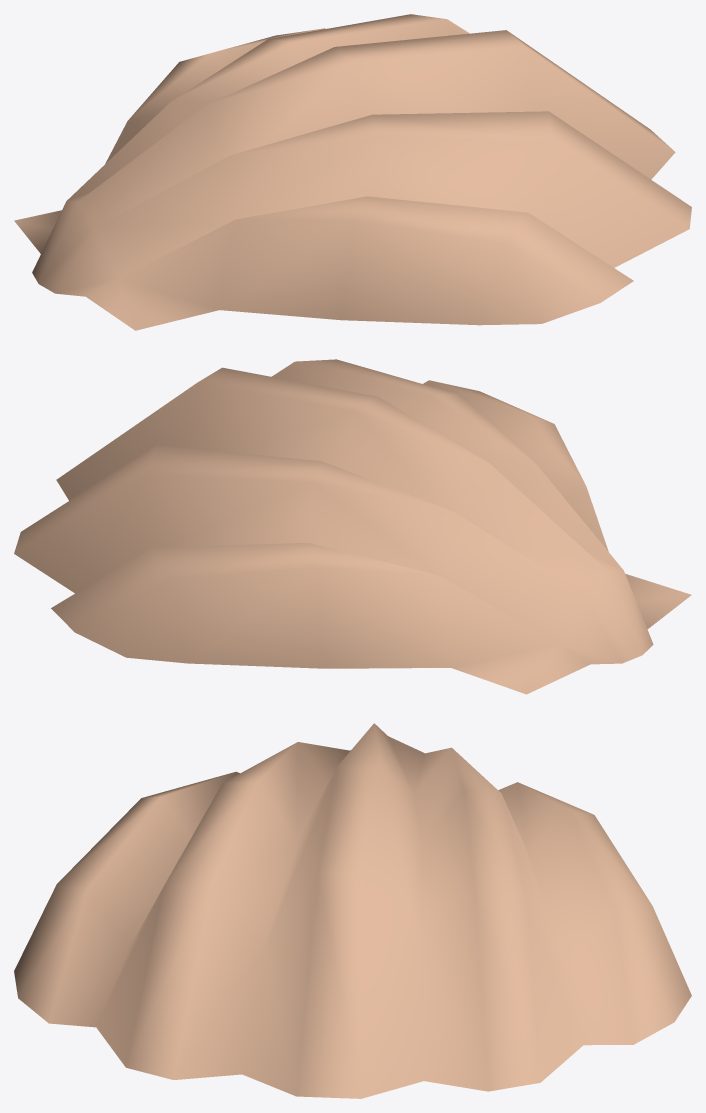
The model's file is Seashell.fbx.
3 views of the same model, one above another, from view 1: azimuth 30°, elevation 25°; view 2: azimuth 150°, elevation 25°; view 3: azimuth 270°, elevation 25° (orthographic). The views are drawn at different scales.
Visible parts, largest first — view 1: Plane003; view 2: Plane003; view 3: Plane003.
Part boxes in pixels (box(x1,y1,x2,y2)): Plane003: box(14, 14, 691, 330); Plane003: box(14, 359, 691, 694); Plane003: box(14, 723, 691, 1098).
Bounding box in the file's own units: 13.18 × 3.57 × 11.75.
